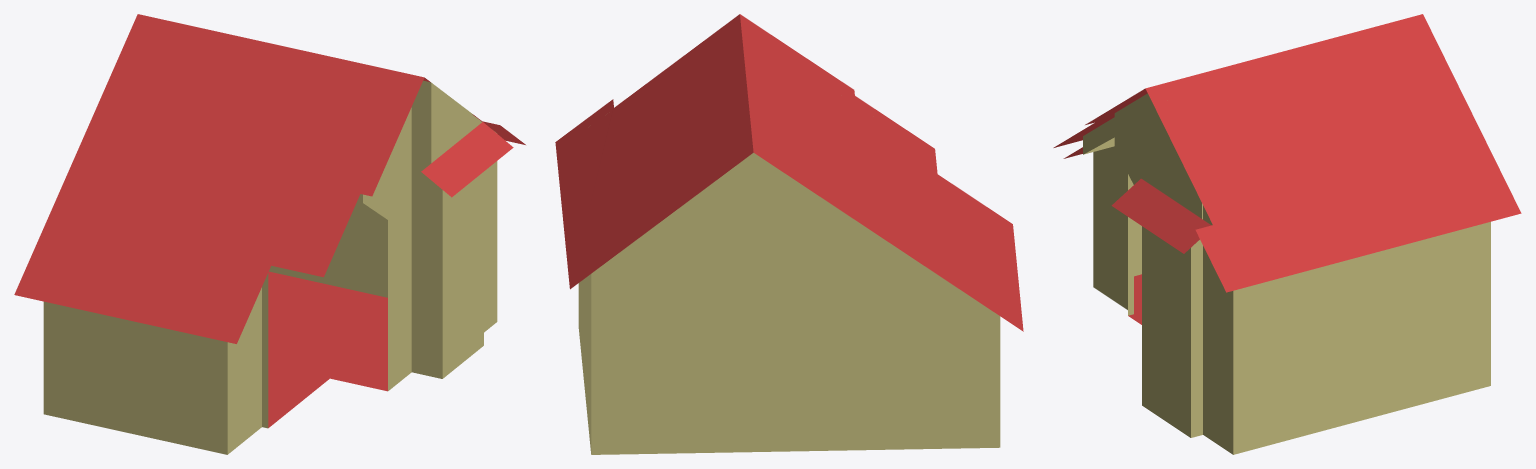
The picture shows the model from 3 angles, left to right: view 1: azimuth 30°, elevation 25°; view 2: azimuth 150°, elevation 25°; view 3: azimuth 270°, elevation 25°; orthographic projection.
Bounding box in the file's own units: 25.66 × 21.08 × 15.33.
